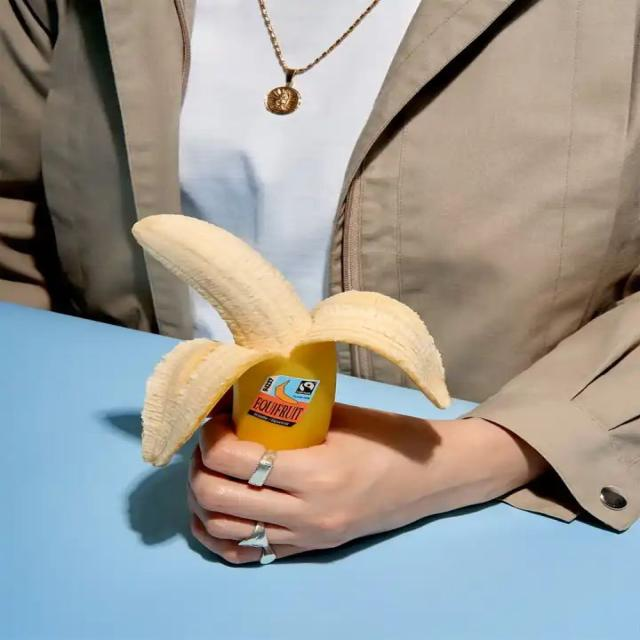banana: (133, 215, 449, 465)
